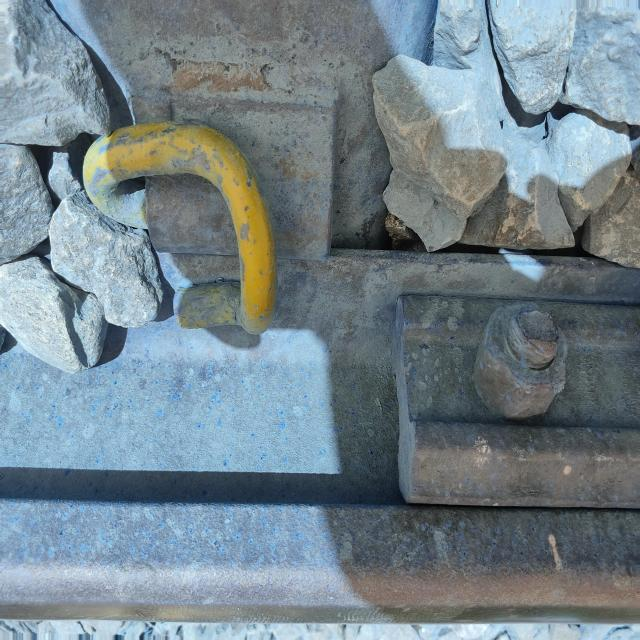Good Fasteners: (84, 61, 335, 332)
